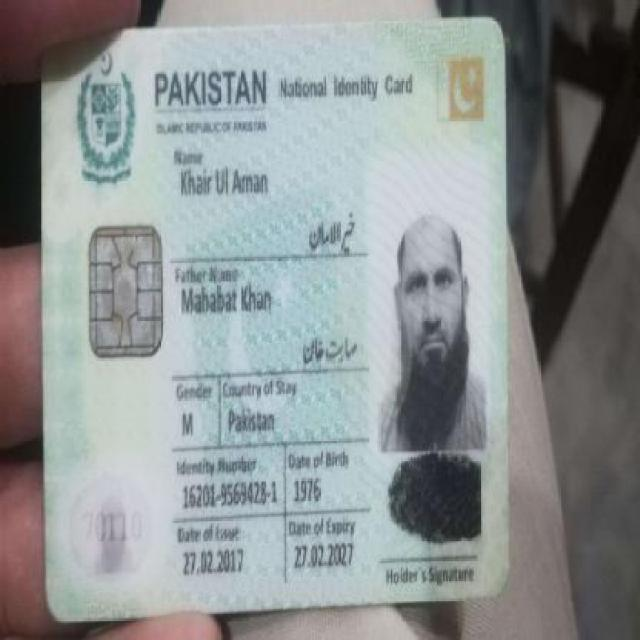Front: (34, 19, 518, 618)
